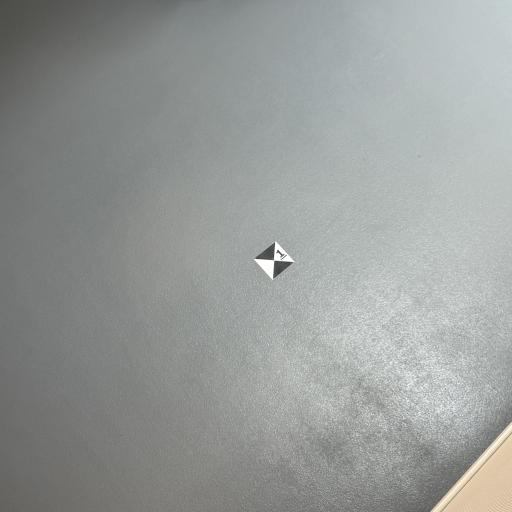target1: (252, 240, 298, 286)
